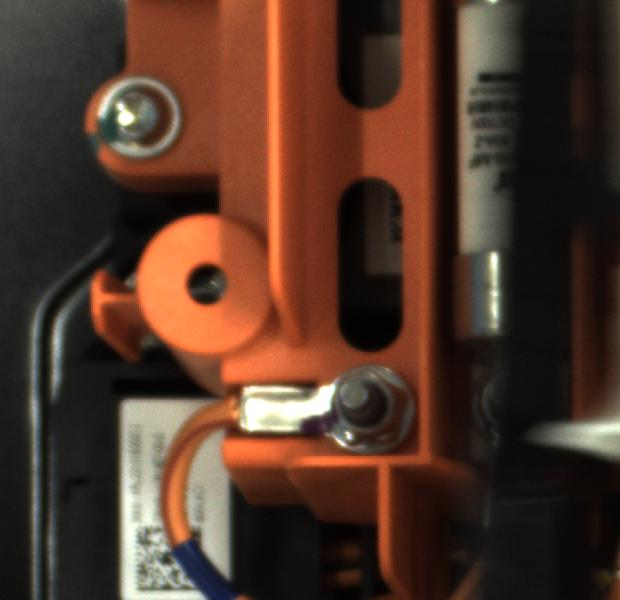screw_m: (89, 65, 192, 168)
